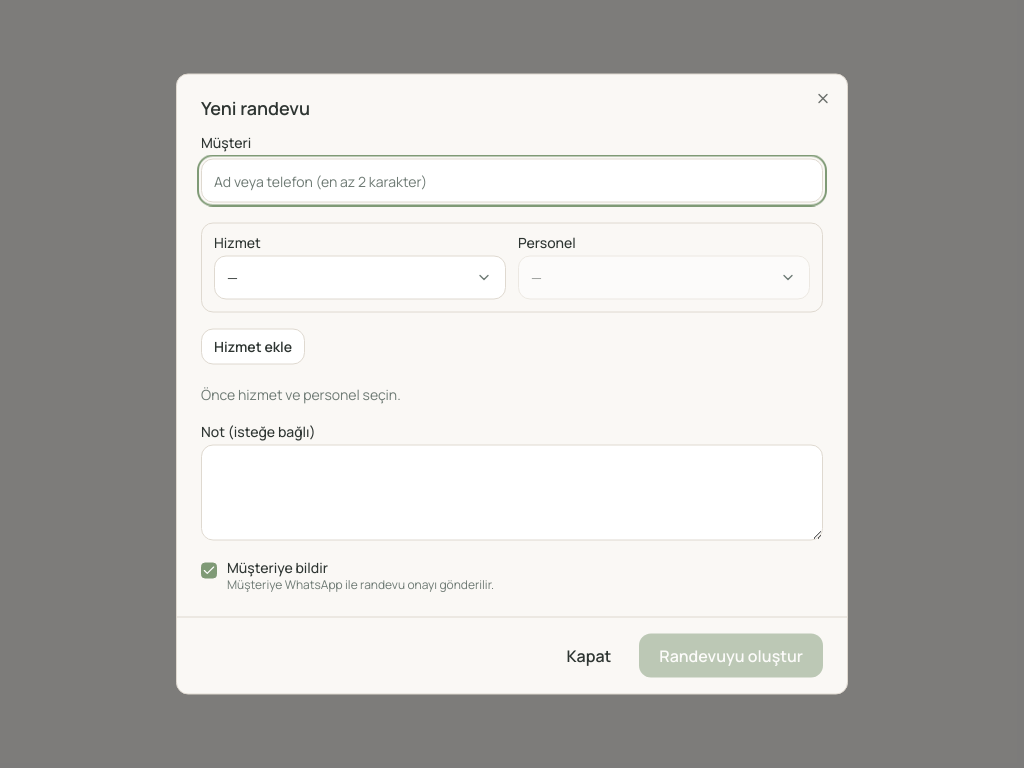
randevu oluşturma › `customer:write` YOKKEN yeni müşteri yolu gösterilmiyor
Type "yok" into the dropdown labelled "Müşteri" at (512, 180), box [201,158,823,202]
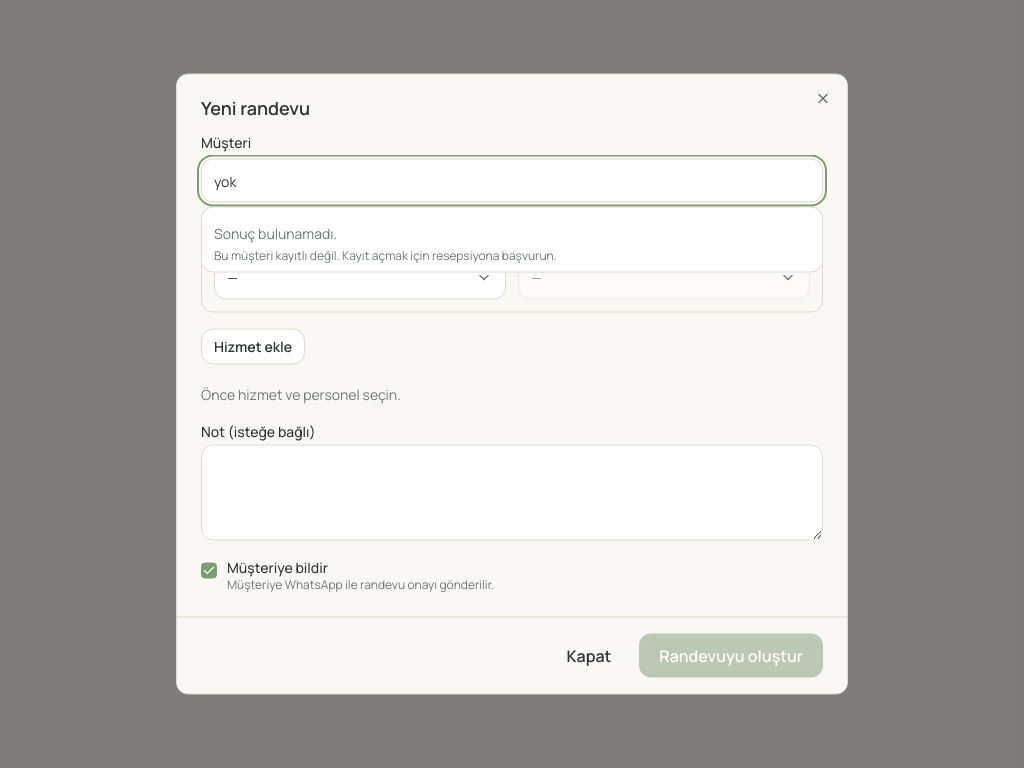
Check: the text "resepsiyona başvurun" is shown, box [214,246,557,264]
